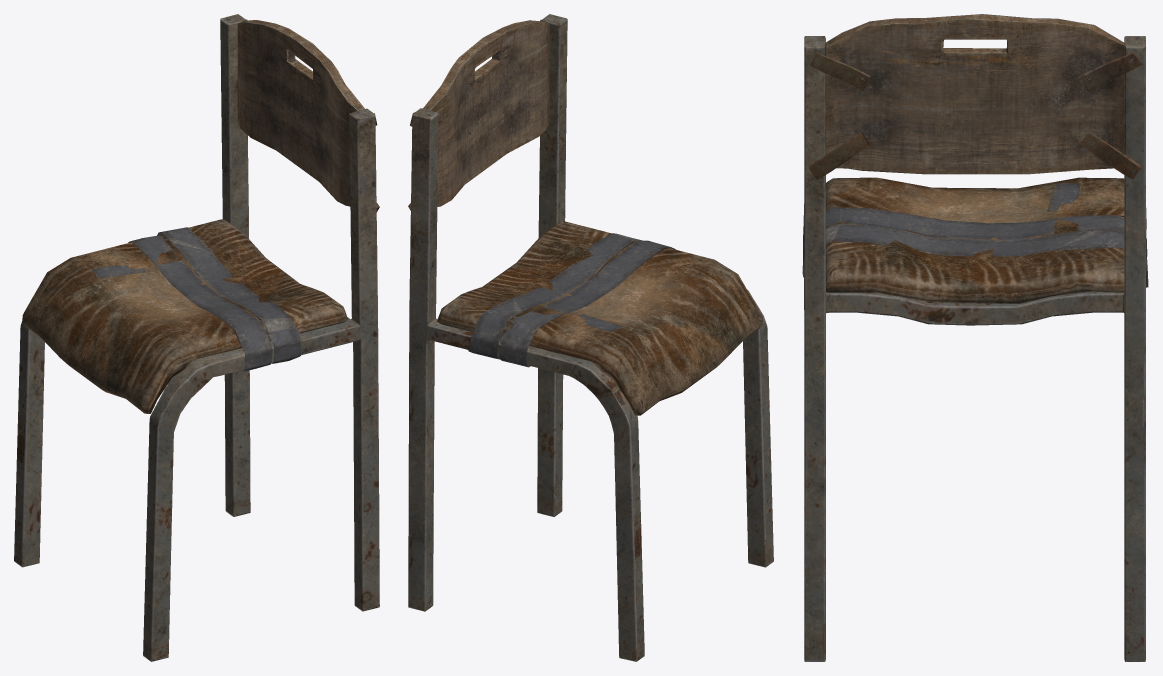
File: SM_Chair.fbx
3 renders of one model, left to right at view 1: azimuth 30°, elevation 25°; view 2: azimuth 150°, elevation 25°; view 3: azimuth 270°, elevation 25°, orthographic. The views are drawn at different scales.
Parts seen in each view (by area): view 1: SM_Chair_LOD0; view 2: SM_Chair_LOD0; view 3: SM_Chair_LOD0.
Boxes of the visible parts, bbox=[...] form: SM_Chair_LOD0: bbox=[14, 14, 379, 661]; SM_Chair_LOD0: bbox=[408, 14, 773, 661]; SM_Chair_LOD0: bbox=[802, 14, 1148, 661].
Size of the model in its own units: 52.89 by 54.48 by 112.
1 material, 1 textured.
